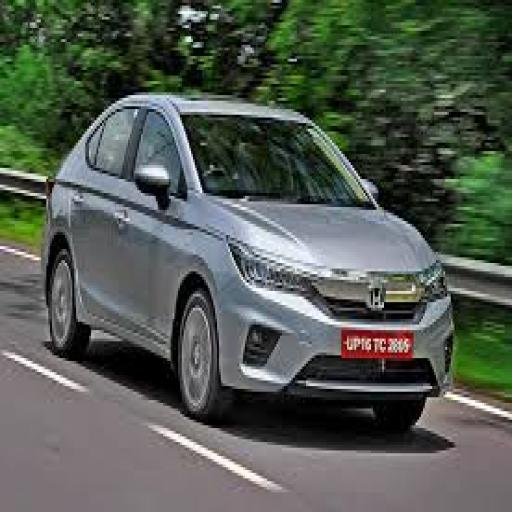License: (338, 324, 418, 362)
